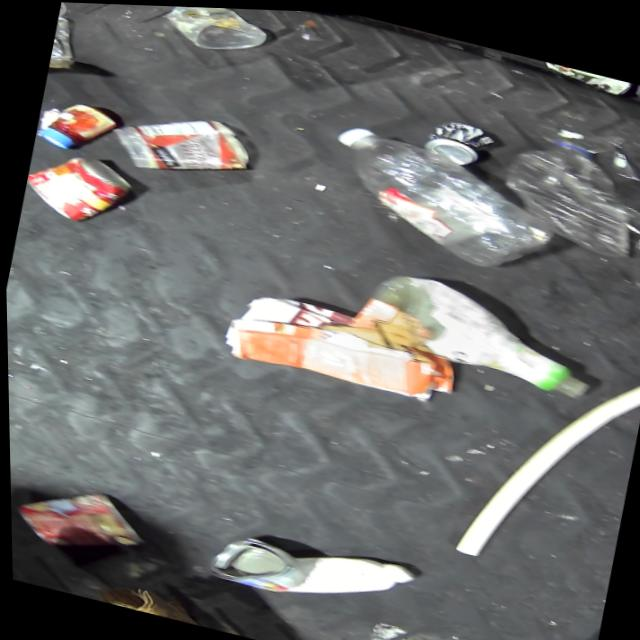can: (8, 470, 151, 567), (19, 142, 140, 234), (198, 522, 309, 598), (419, 109, 499, 167), (533, 54, 633, 95)
plastic_bottle: (312, 114, 569, 279), (489, 115, 640, 258)
